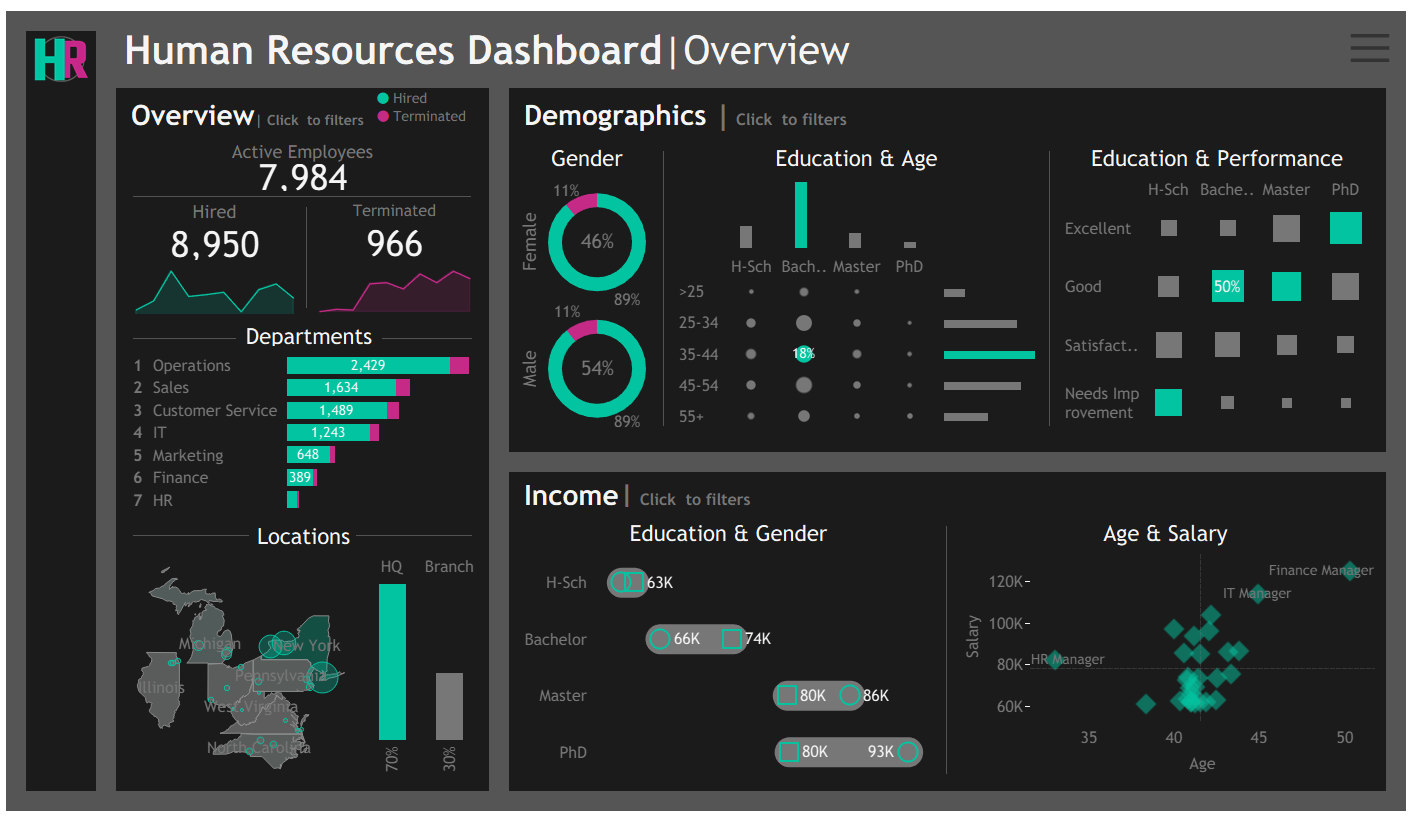

The dashboard page shown, as its layout file describes it:
{"tool":"tableau","page":{"name":"HR Summary","canvas":[1000,1000],"units":"permille","ordinal":0},"visuals":[{"type":"text","box":[78.6,0,552.1,89.5]},{"type":"blank","box":[630.7,0,355,89.5]},{"type":"filter","title":"Department","param":"[federated.0zowxlm1agca0v1f0jzhr0j51s3n].[none:Gender:nk]","box":[600,15.1,90,66.3]},{"type":"filter","title":"Department","param":"[federated.0zowxlm1agca0v1f0jzhr0j51s3n].[none:Calculation_1350516966469545984:n","box":[690,15.1,90,66.3]},{"type":"filter","title":"Department","param":"[federated.0zowxlm1agca0v1f0jzhr0j51s3n].[none:Calculation_910853052511850501:nk","box":[780,15.1,89.3,66.3]},{"type":"filter","title":"Department","param":"[federated.0zowxlm1agca0v1f0jzhr0j51s3n].[yr:Hiredate:ok]","box":[869.3,15.1,89.3,66.3]},{"type":"dashboard-object","box":[959.3,18.6,30,48.8]},{"type":"image","param":"Image/Logo.png","box":[14.3,23.3,50,64]},{"type":"text","box":[262.1,90.7,82.1,45.4]},{"type":"text","box":[83.6,97.7,256.4,47.7]},{"type":"text","box":[364.3,97.7,616.4,47.7]},{"type":"text","box":[83.6,145.3,256.4,32.6]},{"type":"text","box":[364.3,151.2,101.4,39.5]},{"type":"blank","box":[469.3,151.2,0.7,343]},{"type":"text","box":[473.6,151.2,267.9,39.5]},{"type":"blank","box":[745,151.2,0.7,343]},{"type":"text","box":[749.3,151.2,231.4,39.5]},{"type":"worksheet","title":"BAN Active","mark":"Text","box":[83.6,177.9,256.4,37.2]},{"type":"worksheet","title":"Gender","mark":"Pie","rows":["Gender"],"cols":["Calculation_910853052579110919","Calculation_910853052579110919"],"box":[364.3,190.7,101.4,303.5]},{"type":"worksheet","title":"Education Levels","mark":"Bar","rows":["Calculation_910853052496252928"],"cols":["Education Level"],"box":[473.6,190.7,267.9,89.5]},{"type":"worksheet","title":"Education vs Performance","mark":"Square","rows":["Performance Rating"],"cols":["Education Level"],"box":[749.3,190.7,231.4,303.5]},{"type":"blank","box":[83.6,215.1,256.4,1.2]},{"type":"text","box":[83.6,216.3,130.7,33.7]},{"type":"blank","box":[214.3,216.3,0.7,140.7]},{"type":"text","box":[215,216.3,125,31.4]},{"type":"worksheet","title":"BAN Terminated","mark":"Text","box":[215,247.7,125,46.5]},{"type":"worksheet","title":"BAN Hired","mark":"Text","box":[83.6,250,130.7,44.2]},{"type":"worksheet","title":" Age vs Education","mark":"Circle","rows":["Calculation_910853052582916106"],"cols":["Education Level"],"box":[473.6,280.2,193.6,214]},{"type":"worksheet","title":"Age Groups","mark":"Bar","rows":["Calculation_910853052582916106"],"cols":["Calculation_910853052496252928"],"box":[667.1,280.2,74.3,214]},{"type":"worksheet","title":"Hired By Year","mark":"Line","rows":["Calculation_910853052496252928","Calculation_910853052496252928"],"cols":["Hiredate"],"box":[83.6,294.2,130.7,62.8]},{"type":"worksheet","title":"Terminated By Year","mark":"Line","rows":["Calculation_910853052496478209","Calculation_910853052496478209"],"cols":["Termdate"],"box":[215,294.2,125,62.8]},{"type":"blank","box":[90.7,362.8,73.6,31.4]},{"type":"text","box":[164.3,362.8,104.3,31.4]},{"type":"blank","box":[268.6,362.8,64.3,31.4]},{"type":"worksheet","title":"Department","mark":"Bar","rows":["Calculation_910853052506468356","Department"],"cols":["Calculation_910853052496252928"],"box":[83.6,394.2,256.4,191.8]},{"type":"text","box":[364.3,544.2,616.4,37.2]},{"type":"text","box":[364.3,587.2,303.6,39.5]},{"type":"blank","box":[671.4,587.2,0.7,311.6]},{"type":"text","box":[675.7,587.2,305,39.5]},{"type":"blank","box":[90.7,591.8,82.6,37.2]},{"type":"text","box":[173.3,591.8,76.9,37.2]},{"type":"blank","box":[250.2,591.8,82.6,37.2]},{"type":"worksheet","title":"Gender vs Education Level","mark":"Square","rows":["Education Level"],"cols":["Salary","Salary"],"box":[364.3,626.7,303.6,272.1]},{"type":"worksheet","title":"Age vs Salary","mark":"Shape","rows":["Salary"],"cols":["Calculation_910853052581859337"],"box":[675.7,626.7,305,272.1]},{"type":"worksheet","title":"Map States","mark":"Automatic","box":[83.6,629,168.3,269.8]},{"type":"worksheet","title":"Location","mark":"Bar","rows":["Calculation_910853052496252928"],"cols":["Calculation_910853052511850501","Calculation1"],"box":[251.9,629,88.1,269.8]}]}

Visuals, with their boxes on the dashboard's canvas, which has no fixed pixel size, in thousandths of its width and height (x1, y1, x2, y2). These are canvas units, not pixel positions in the 1415x818 screenshot, which may show the page scaled, cropped or inside an application window:
text: left=79, top=0, right=631, bottom=90
blank: left=631, top=0, right=986, bottom=90
"Department" filter: left=600, top=15, right=690, bottom=81
"Department" filter: left=690, top=15, right=780, bottom=81
"Department" filter: left=780, top=15, right=869, bottom=81
"Department" filter: left=869, top=15, right=959, bottom=81
dashboard-object: left=959, top=19, right=989, bottom=67
image: left=14, top=23, right=64, bottom=87
text: left=262, top=91, right=344, bottom=136
text: left=84, top=98, right=340, bottom=145
text: left=364, top=98, right=981, bottom=145
text: left=84, top=145, right=340, bottom=178
text: left=364, top=151, right=466, bottom=191
blank: left=469, top=151, right=470, bottom=494
text: left=474, top=151, right=742, bottom=191
blank: left=745, top=151, right=746, bottom=494
text: left=749, top=151, right=981, bottom=191
"BAN Active" worksheet (Text marks): left=84, top=178, right=340, bottom=215
"Gender" worksheet (Pie marks): left=364, top=191, right=466, bottom=494
"Education Levels" worksheet (Bar marks): left=474, top=191, right=742, bottom=280
"Education vs Performance" worksheet (Square marks): left=749, top=191, right=981, bottom=494
blank: left=84, top=215, right=340, bottom=216
text: left=84, top=216, right=214, bottom=250
blank: left=214, top=216, right=215, bottom=357
text: left=215, top=216, right=340, bottom=248
"BAN Terminated" worksheet (Text marks): left=215, top=248, right=340, bottom=294
"BAN Hired" worksheet (Text marks): left=84, top=250, right=214, bottom=294
" Age vs Education" worksheet (Circle marks): left=474, top=280, right=667, bottom=494
"Age Groups" worksheet (Bar marks): left=667, top=280, right=741, bottom=494
"Hired By Year" worksheet (Line marks): left=84, top=294, right=214, bottom=357
"Terminated By Year" worksheet (Line marks): left=215, top=294, right=340, bottom=357
blank: left=91, top=363, right=164, bottom=394
text: left=164, top=363, right=269, bottom=394
blank: left=269, top=363, right=333, bottom=394
"Department" worksheet (Bar marks): left=84, top=394, right=340, bottom=586
text: left=364, top=544, right=981, bottom=581
text: left=364, top=587, right=668, bottom=627
blank: left=671, top=587, right=672, bottom=899
text: left=676, top=587, right=981, bottom=627
blank: left=91, top=592, right=173, bottom=629
text: left=173, top=592, right=250, bottom=629
blank: left=250, top=592, right=333, bottom=629
"Gender vs Education Level" worksheet (Square marks): left=364, top=627, right=668, bottom=899
"Age vs Salary" worksheet (Shape marks): left=676, top=627, right=981, bottom=899
"Map States" worksheet: left=84, top=629, right=252, bottom=899
"Location" worksheet (Bar marks): left=252, top=629, right=340, bottom=899
